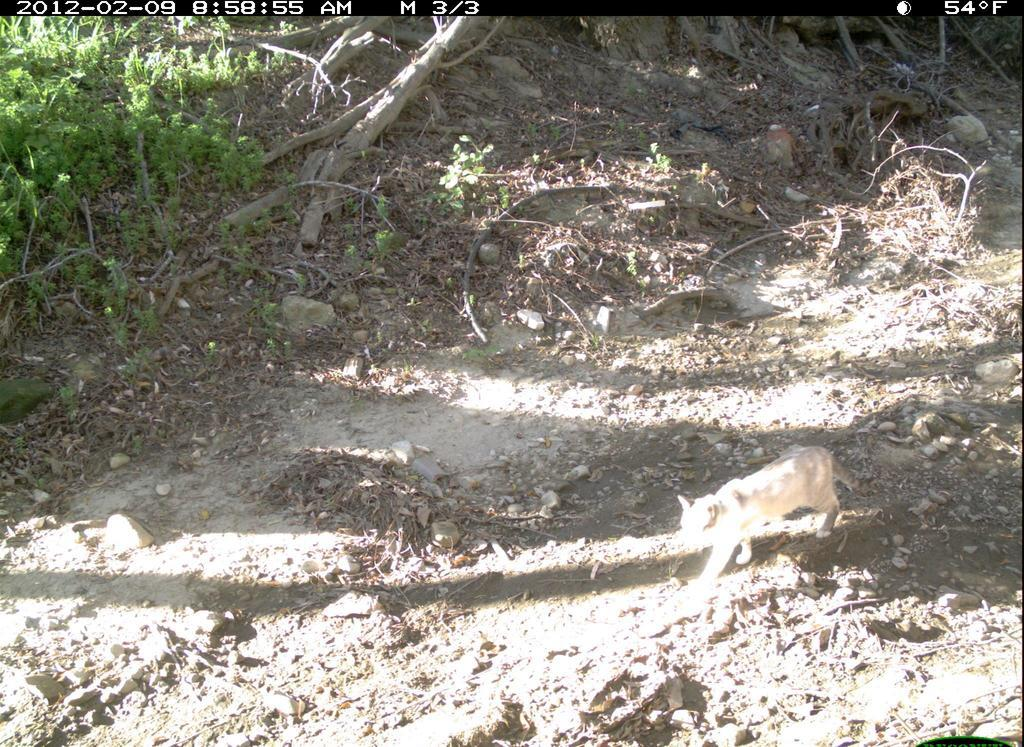cat: (666, 434, 862, 602)
